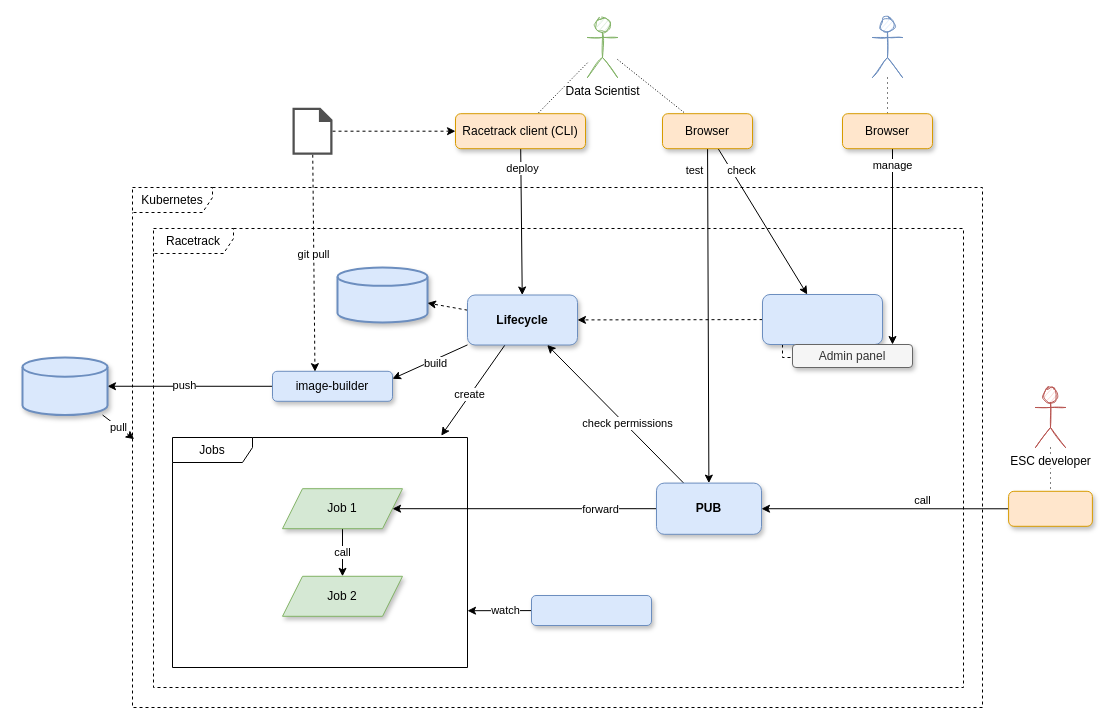
Some shapes in this 1116 by 725 pixel diagram are drawn without their labels. The centre of each missing label's shape, as x and y in pixels:
"Admin" belongs at point (887, 47).
"Dashboard" belongs at point (823, 321).
"Docker registry" belongs at point (65, 387).
"ESC code" belongs at point (1051, 509).
"lifecycle-supervisor" belongs at point (592, 611).
"Postgres" belongs at point (383, 296).
"source code" belongs at point (312, 130).
